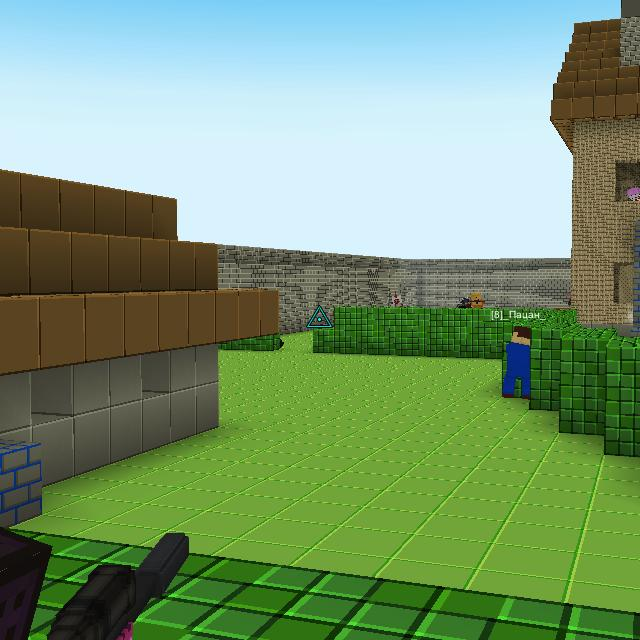enemy: (625, 185, 640, 201), (470, 292, 484, 308), (392, 292, 404, 308), (457, 296, 470, 308), (568, 294, 570, 306)
